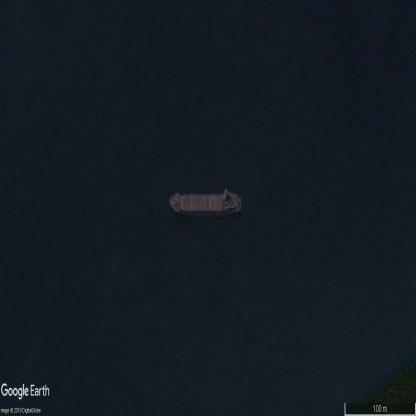ship: (170, 190, 242, 215)
